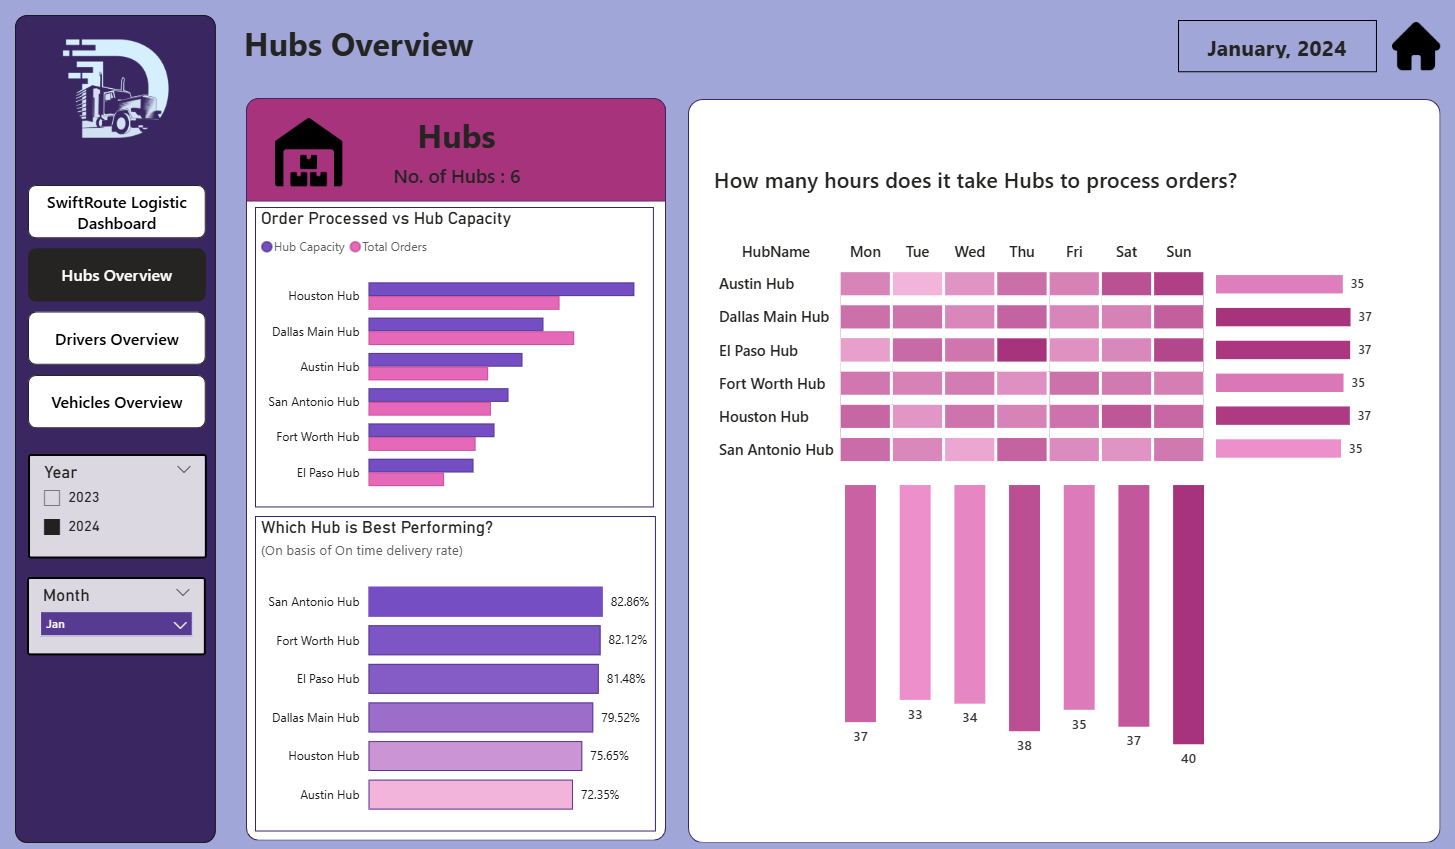

This screenshot's page, from the dashboard's own definition file:
{"tool":"powerbi","page":{"name":"Hubs Overview","canvas":[1450,850],"ordinal":1},"visuals":[{"type":"shape","box":[686.2,100,748.9,740.4],"z":0},{"type":"shape","box":[16.2,16.2,199.9,823.9],"z":1000},{"type":"shape","box":[245.7,100.1,418.1,738.1],"z":1000,"group":"g1"},{"type":"textbox","box":[239.2,16.5,727.8,58.8],"z":2000},{"type":"cardVisual","fields":{"Data":["_Measure.Year Month Title"]},"box":[1173.2,20.6,197.9,51.5],"z":3000},{"type":"image","box":[28.6,28.6,177.1,128.6],"z":4000},{"type":"shape","box":[245.7,98.9,418.1,103.2],"z":4000,"group":"g1"},{"type":"slicer","fields":{"Values":["Date Table.Year"]},"box":[28.9,452.6,178.4,104.1],"z":5000},{"type":"slicer","fields":{"Values":["Date Table.Month Short"]},"box":[27.8,575.3,178.4,78.4],"z":6000},{"type":"image","box":[1386.6,20.6,48.5,51.5],"z":7000},{"type":"group","id":"g1","title":"Section Hubs","box":[245.7,98.9,418.1,739.4],"z":8000},{"type":"textbox","box":[254.2,108.5,401.4,62.3],"z":8000,"group":"g1"},{"type":"group","id":"g2","title":"Combined Visual","box":[706.4,235.1,707.4,541.5],"z":9000},{"type":"pivotTable","fields":{"Rows":["Hubs.HubName"],"Values":["_Measure.Avg Delivery Time (hrs)"],"Columns":["Date Table.Day Short"]},"box":[706.4,235.1,499.8,234.9],"z":9000,"group":"g2"},{"type":"cardVisual","fields":{"Data":["_Measure.Hub Title"]},"box":[706.4,155.3,604.3,46.8],"z":10000},{"type":"columnChart","fields":{"Category":["Date Table.Day Short"],"Y":["_Measure.Avg Delivery Time (hrs)"]},"box":[837,475.1,369.1,301.1],"z":10000,"group":"g2"},{"type":"pageNavigator","box":[28.9,185.6,177.3,242.3],"z":11000},{"type":"barChart","fields":{"Category":["Hubs.HubName"],"Y":["_Measure.Avg Delivery Time (hrs)"]},"box":[1206.1,262.3,207.4,201.1],"z":11000,"group":"g2"},{"type":"image","box":[269.1,118.4,78.6,67.5],"z":11001},{"type":"cardVisual","fields":{"Data":["_Measure.No. of Hubs"]},"box":[277.9,152.5,356.1,45.7],"z":21000,"group":"g1"},{"type":"clusteredBarChart","title":"Order Processed vs Hub Capacity","fields":{"Y":["Sum(Hubs.Hub Capacity)","_Measure.Total Orders"],"Category":["Hubs.HubName"]},"box":[254.9,207,397.4,298.7],"z":21500,"group":"g1"},{"type":"barChart","title":"Which Hub is Best Performing?","fields":{"Category":["Hubs.HubName"],"Y":["_Measure.On Time Delivery Rate"]},"box":[254.9,515.3,398.6,314.4],"z":22000,"group":"g1"}]}

Visuals, with their boxes in screenshot pixels (x1, y1, x2, y2), scaled from the page's 1450x850 canvas onto the 1455x849 screenshot:
shape: pyautogui.locateOnScreen(689, 100, 1440, 839)
shape: pyautogui.locateOnScreen(16, 16, 217, 839)
shape: pyautogui.locateOnScreen(247, 100, 666, 837)
textbox: pyautogui.locateOnScreen(240, 16, 970, 75)
cardVisual - _Measure.Year Month Title: pyautogui.locateOnScreen(1177, 21, 1376, 72)
image: pyautogui.locateOnScreen(29, 29, 206, 157)
shape: pyautogui.locateOnScreen(247, 99, 666, 202)
slicer - Date Table.Year: pyautogui.locateOnScreen(29, 452, 208, 556)
slicer - Date Table.Month Short: pyautogui.locateOnScreen(28, 575, 207, 653)
image: pyautogui.locateOnScreen(1391, 21, 1440, 72)
"Section Hubs" group: pyautogui.locateOnScreen(247, 99, 666, 837)
textbox: pyautogui.locateOnScreen(255, 108, 658, 171)
"Combined Visual" group: pyautogui.locateOnScreen(709, 235, 1419, 776)
pivotTable - Hubs.HubName x _Measure.Avg Delivery Time (hrs): pyautogui.locateOnScreen(709, 235, 1210, 469)
cardVisual - _Measure.Hub Title: pyautogui.locateOnScreen(709, 155, 1315, 202)
columnChart - Date Table.Day Short x _Measure.Avg Delivery Time (hrs): pyautogui.locateOnScreen(840, 475, 1210, 775)
pageNavigator: pyautogui.locateOnScreen(29, 185, 207, 427)
barChart - Hubs.HubName x _Measure.Avg Delivery Time (hrs): pyautogui.locateOnScreen(1210, 262, 1418, 463)
image: pyautogui.locateOnScreen(270, 118, 349, 186)
cardVisual - _Measure.No. of Hubs: pyautogui.locateOnScreen(279, 152, 636, 198)
"Order Processed vs Hub Capacity" clusteredBarChart: pyautogui.locateOnScreen(256, 207, 655, 505)
"Which Hub is Best Performing?" barChart: pyautogui.locateOnScreen(256, 515, 656, 829)
